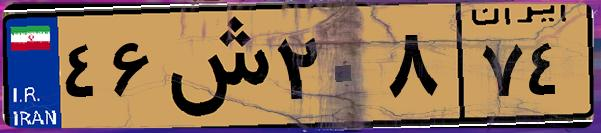0: (330, 28, 385, 110)
2: (270, 28, 330, 110)
4: (57, 26, 110, 100), (525, 38, 570, 115)
6: (110, 28, 158, 98)
7: (475, 38, 525, 113)
8: (385, 28, 445, 110)
ش: (158, 12, 270, 120)
